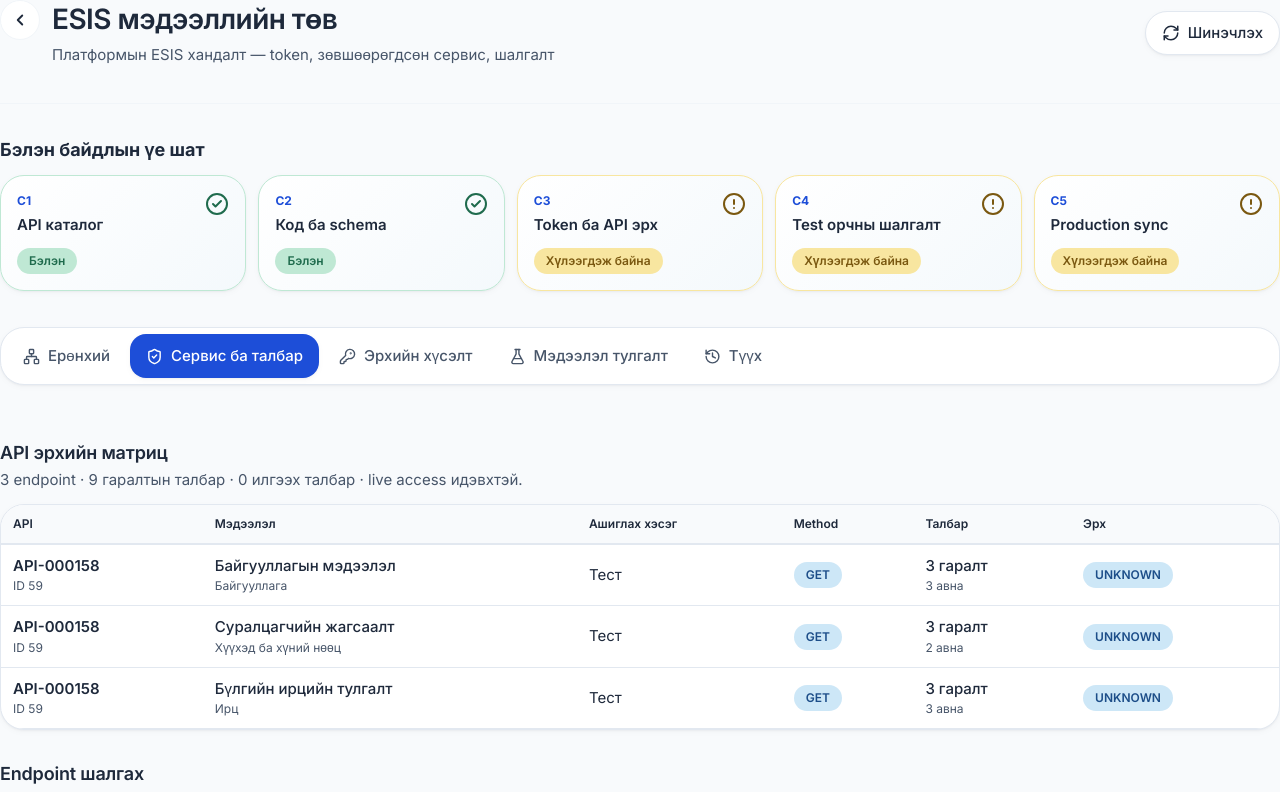
Test: ESIS гаралтын талбарууд › names every output field, including the ones it refuses
Click the tab "Сервис ба талбар". click: x=225, y=356
box: [130,334,319,378]
(page scrolled)
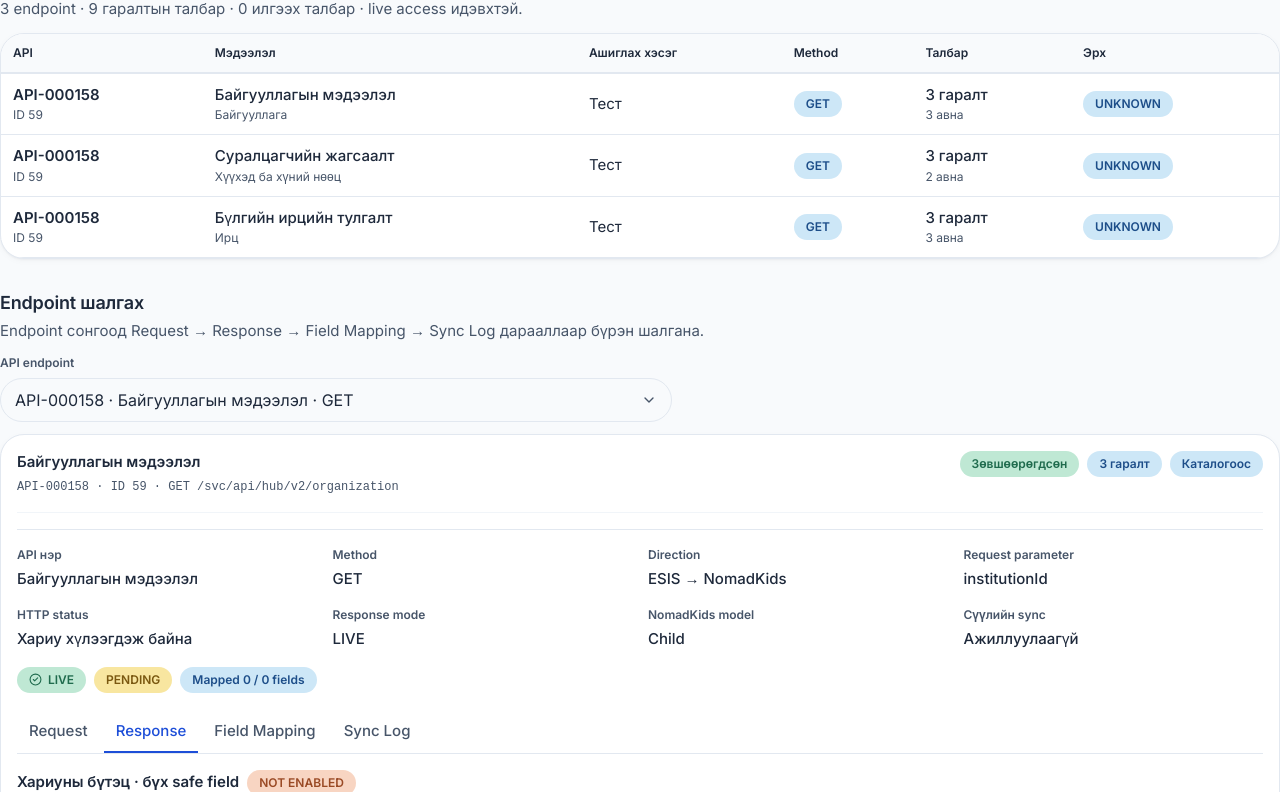
Click the dropdown named "API endpoint". click: x=336, y=400
box: [0,378,672,422]
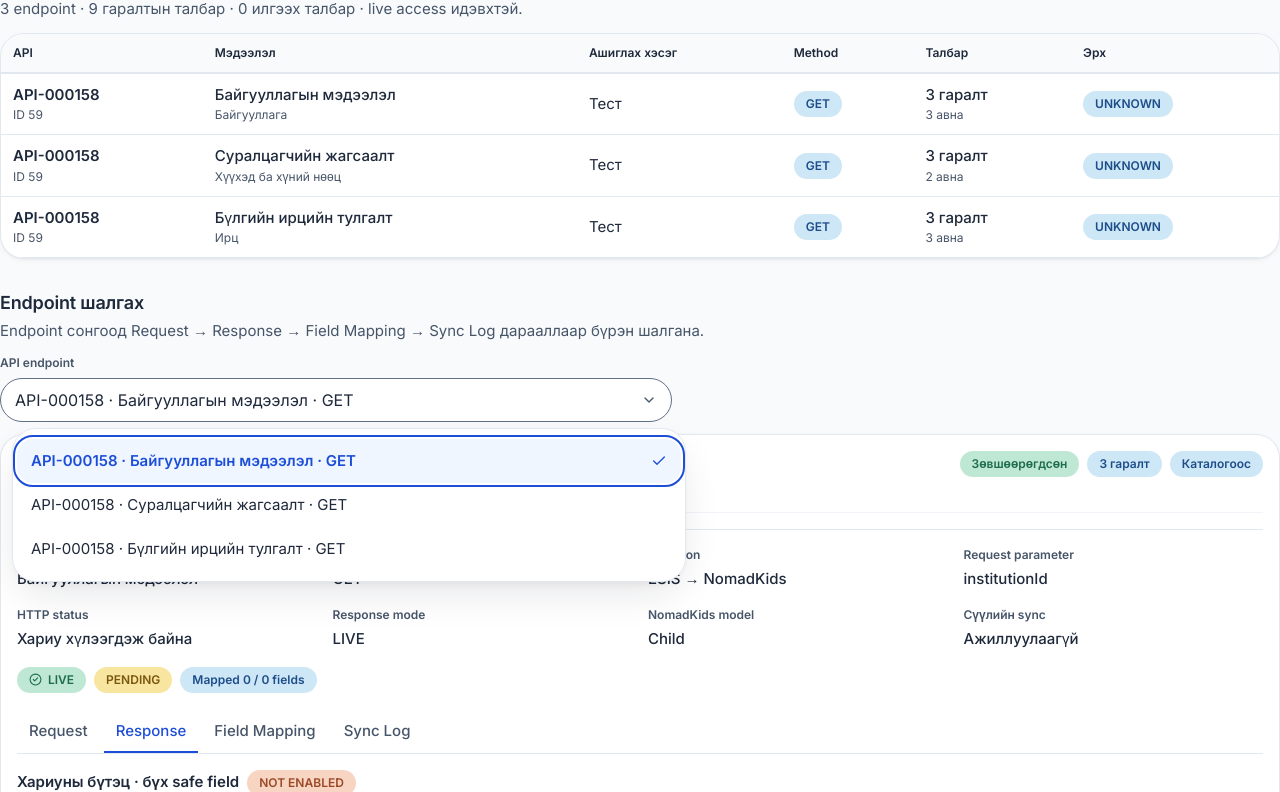
Click the option "API-000158 · Суралцагчийн жагсаалт · GET". click: x=189, y=504
box: [31,495,347,514]
(page scrolled)
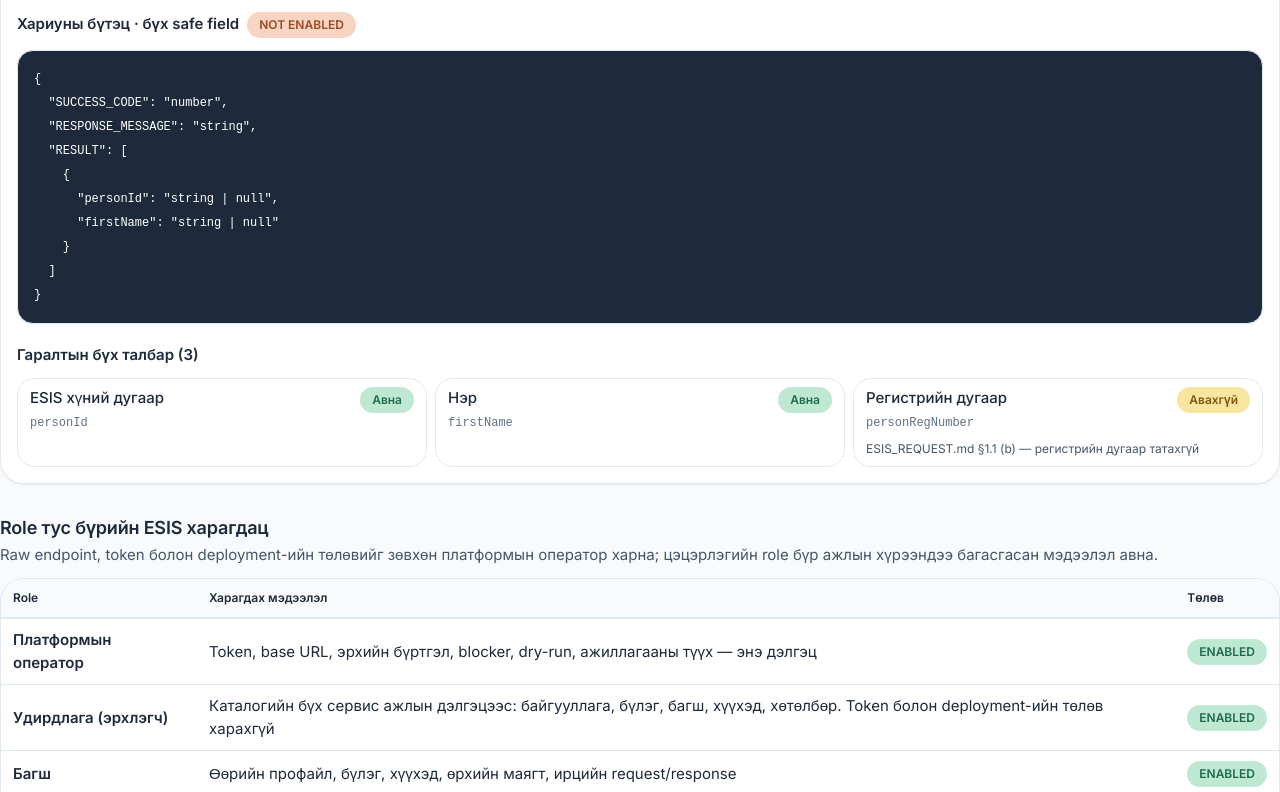
Check: the text "personRegNumber" is shown, box [866,416,974,430]
Check: the text "ESIS_REQUEST.md §1.1 (b) — регистрийн дугаар татахгүй" is shown, box [866,440,1250,458]
Check: the text "Авахгүй" is shown, box [1177,387,1250,413]
